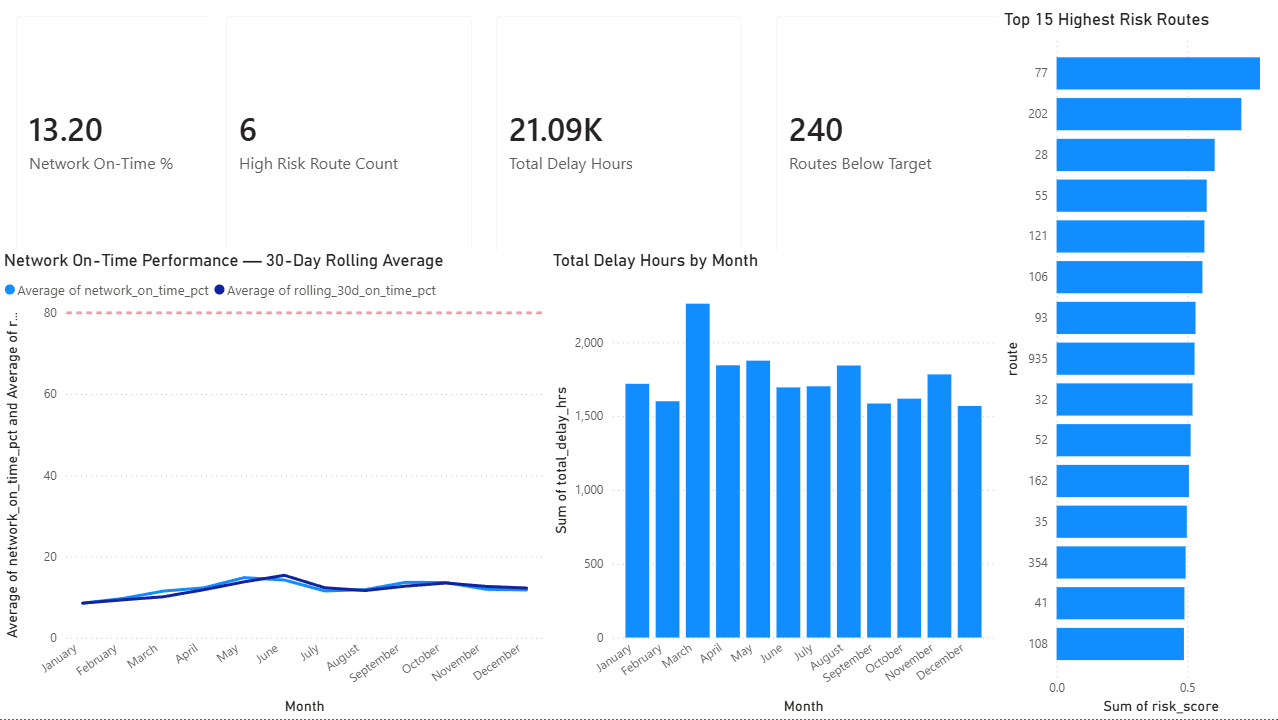

The dashboard page shown, as its layout file describes it:
{"tool":"powerbi","page":{"name":"Executive Summary","canvas":[1280,720],"ordinal":0},"visuals":[{"type":"cardVisual","fields":{"Data":["RouteDaily.Network On-Time %"]},"box":[0,0,280,280],"z":0},{"type":"cardVisual","fields":{"Data":["RouteDaily.High Risk Route Count"]},"box":[210.3,0,280,280],"z":1000},{"type":"cardVisual","fields":{"Data":["RouteDaily.Total Delay Hours"]},"box":[480.6,0,280,280],"z":2000},{"type":"cardVisual","fields":{"Data":["RouteDaily.Routes Below Target"]},"box":[760.6,0,278.8,280],"z":3000},{"type":"lineChart","title":"Network On-Time Performance — 30-Day Rolling Average","fields":{"Y":["Avg(NetworkSummary.network_on_time_pct)","Avg(NetworkSummary.rolling_30d_on_time_pct)"],"Category":["NetworkSummary.date.Variation.Date Hierarchy.Month"]},"box":[0,251.1,548.9,469.3],"z":4000},{"type":"clusteredBarChart","title":"Top 15 Highest Risk Routes","fields":{"Category":["RouteRiskScores.route"],"Y":["Sum(RouteRiskScores.risk_score)"]},"box":[1000.3,9.6,279.9,710.8],"z":5000},{"type":"clusteredColumnChart","title":"Total Delay Hours by Month","fields":{"Category":["NetworkSummary.year_month.Variation.Date Hierarchy.Month"],"Y":["Sum(NetworkSummary.total_delay_hrs)"]},"box":[548.9,251.1,451.5,469.3],"z":6000}]}

Visuals, with their boxes in screenshot pixels (x1, y1, x2, y2), scaled from the page's 1280x720 canvas onto the 1278x720 screenshot:
cardVisual - RouteDaily.Network On-Time %: <box>0,0,280,280</box>
cardVisual - RouteDaily.High Risk Route Count: <box>210,0,490,280</box>
cardVisual - RouteDaily.Total Delay Hours: <box>480,0,759,280</box>
cardVisual - RouteDaily.Routes Below Target: <box>759,0,1038,280</box>
"Network On-Time Performance — 30-Day Rolling Average" lineChart: <box>0,251,548,719</box>
"Top 15 Highest Risk Routes" clusteredBarChart: <box>999,10,1277,719</box>
"Total Delay Hours by Month" clusteredColumnChart: <box>548,251,999,719</box>
